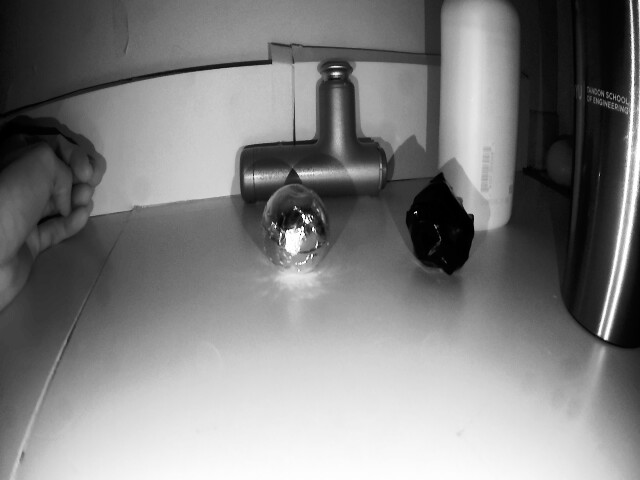black: (263, 185, 329, 277)
silver: (408, 188, 479, 275)
